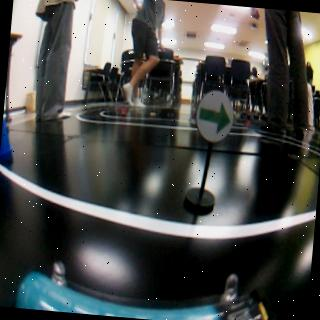right: (197, 90, 235, 138)
